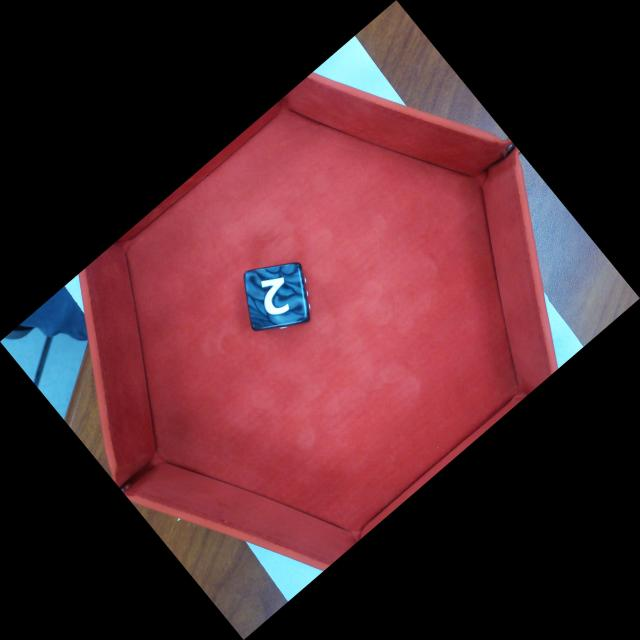dice: (246, 262, 307, 327)
